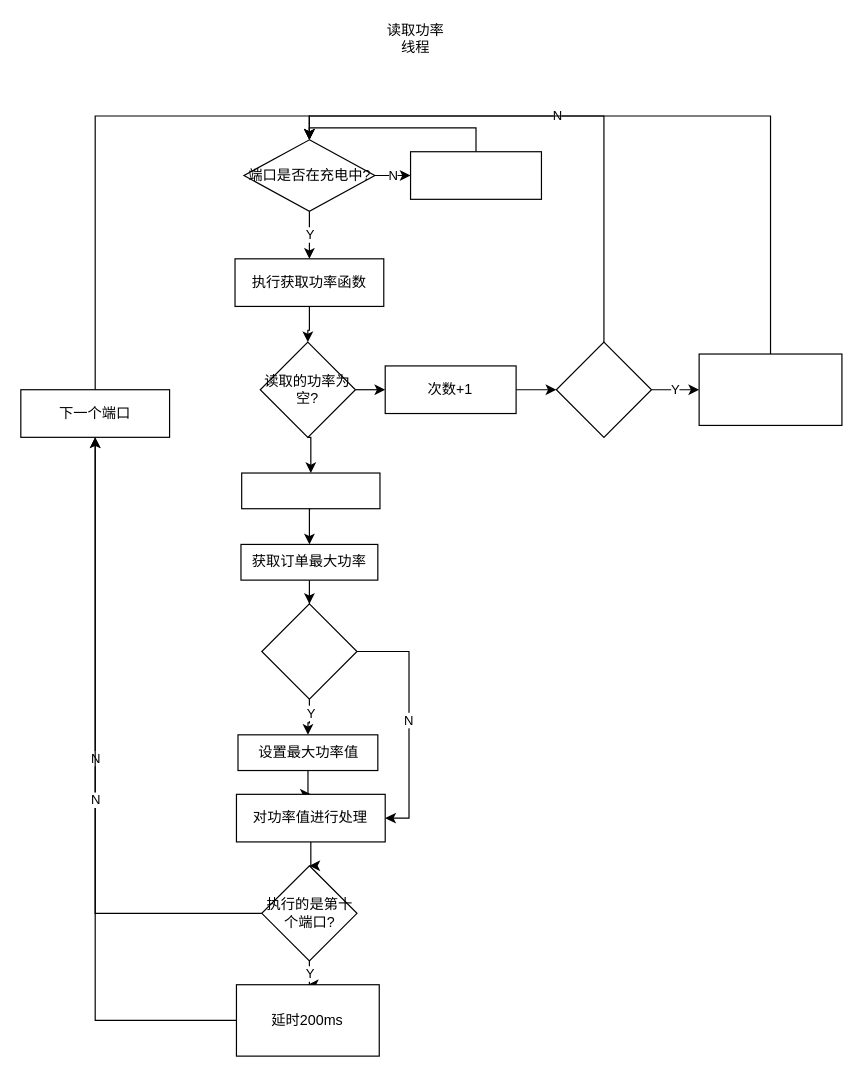
Some shapes in this 863 by 1077 pixel diagram are drawn without their labels. Here are the shapes that lost their labels. From the top down, the centre of each, then its label:
[475,175]: 延时80ms，下一个端口
[603,389]: 读取次数大于4次?
[770,389]: 读取次数清零，并对对应的功率模块重启
[310,490]: 读取次数清零
[309,651]: 读取功率值>最大功率值?
